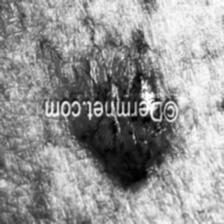Potentially Malignant Skin Tumors: (72, 119, 167, 187)
